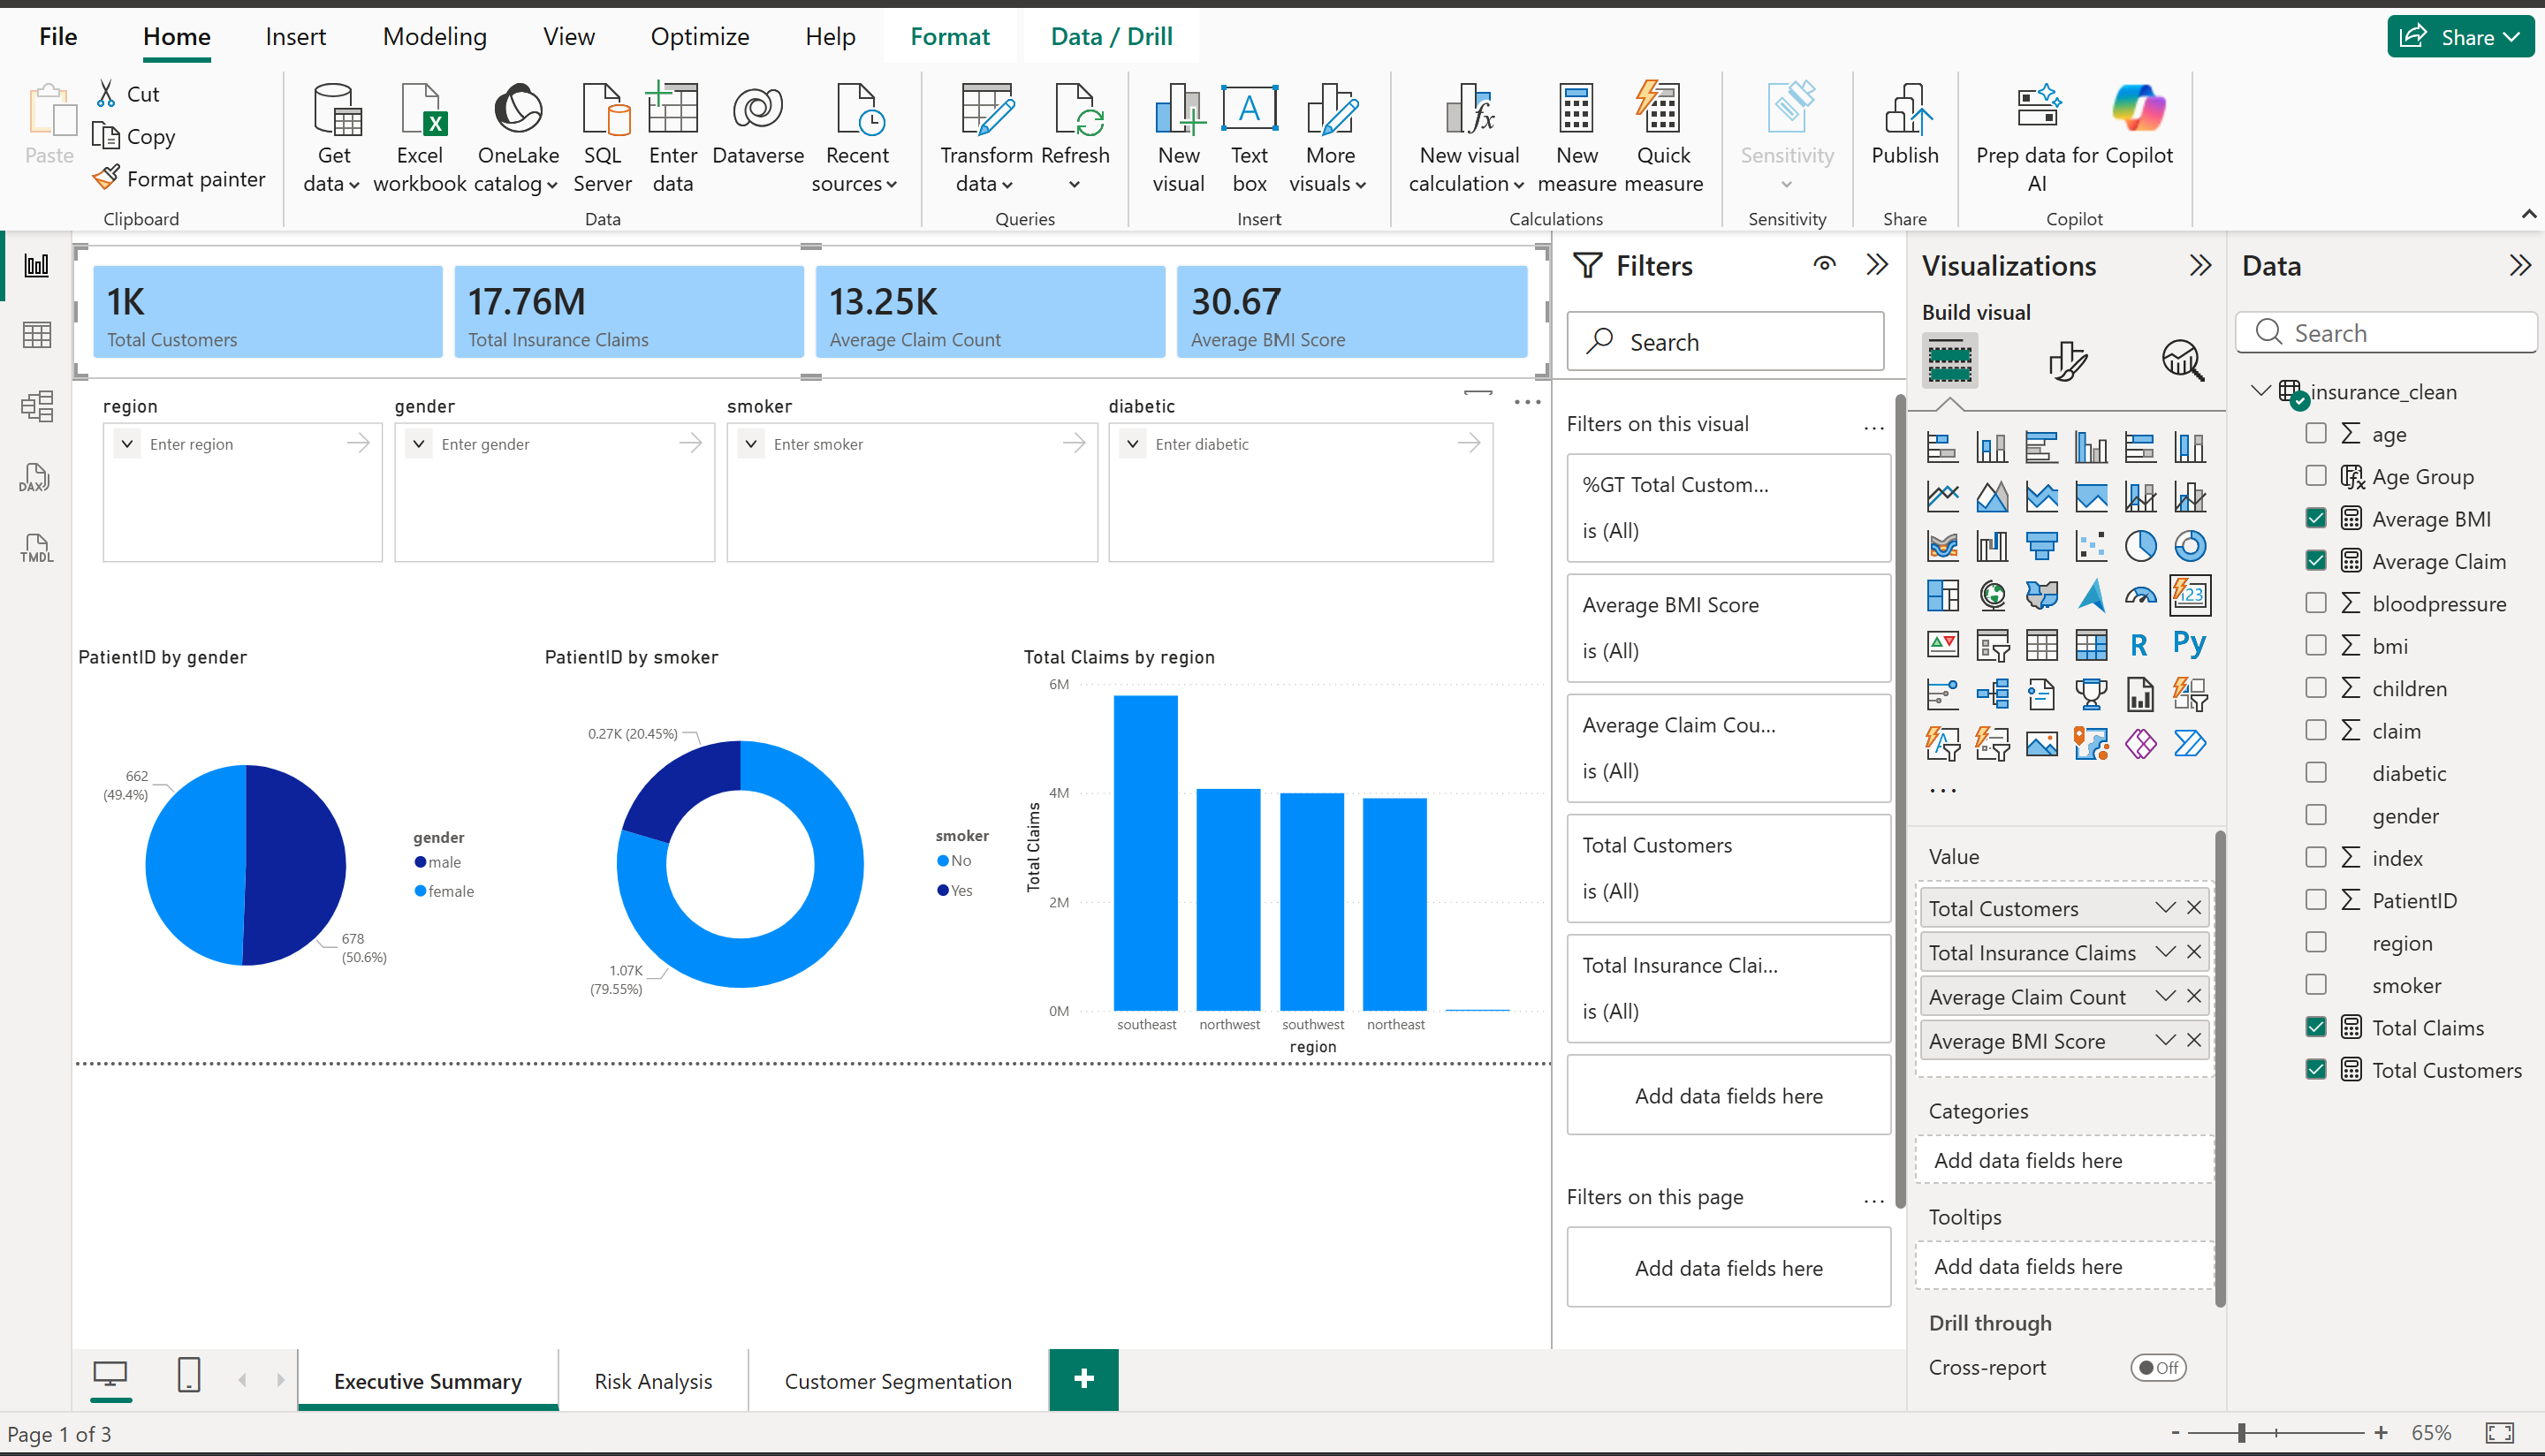

The page's visual inventory and layout, read from the dashboard file:
{"tool":"powerbi","page":{"name":"Executive Summary","canvas":[1280,720],"ordinal":0},"visuals":[{"type":"clusteredColumnChart","fields":{"Category":["insurance_clean.region"],"Y":["insurance_clean.Total Claims"]},"box":[819.1,359.8,460.9,359.8],"z":0},{"type":"pieChart","fields":{"Category":["insurance_clean.gender"],"Y":["CountNonNull(insurance_clean.PatientID)"]},"box":[0,359.8,364.4,361.3],"z":1000},{"type":"donutChart","fields":{"Category":["insurance_clean.smoker"],"Y":["CountNonNull(insurance_clean.PatientID)"]},"box":[404.2,359.8,414.9,359.8],"z":2000},{"type":"cardVisual","fields":{"Data":["insurance_clean.Total Customers","insurance_clean.Total Claims","insurance_clean.Average Claim","insurance_clean.Average BMI"]},"box":[0,12.2,1280,116.4],"z":3000},{"type":"textSlicer","fields":{"Values":["insurance_clean.region"]},"box":[21.4,142.4,252.6,150],"z":4000},{"type":"textSlicer","fields":{"Values":["insurance_clean.gender"]},"box":[274.1,142.4,287.8,150],"z":5000},{"type":"textSlicer","fields":{"Values":["insurance_clean.smoker"]},"box":[561.9,142.4,332.2,150],"z":6000},{"type":"textSlicer","fields":{"Values":["insurance_clean.diabetic"]},"box":[892.6,142.4,343,150],"z":7000}]}

Visuals, with their boxes on the page's 1280x720 design canvas (x1, y1, x2, y2). These are canvas units, not pixel positions in the 2545x1456 screenshot, which may show the page scaled, cropped or inside an application window:
clusteredColumnChart - insurance_clean.region x insurance_clean.Total Claims: 819:360:1280:720
pieChart - insurance_clean.gender x CountNonNull(insurance_clean.PatientID): 0:360:364:721
donutChart - insurance_clean.smoker x CountNonNull(insurance_clean.PatientID): 404:360:819:720
cardVisual - insurance_clean.Total Customers x insurance_clean.Total Claims: 0:12:1280:129
textSlicer - insurance_clean.region: 21:142:274:292
textSlicer - insurance_clean.gender: 274:142:562:292
textSlicer - insurance_clean.smoker: 562:142:894:292
textSlicer - insurance_clean.diabetic: 893:142:1236:292
